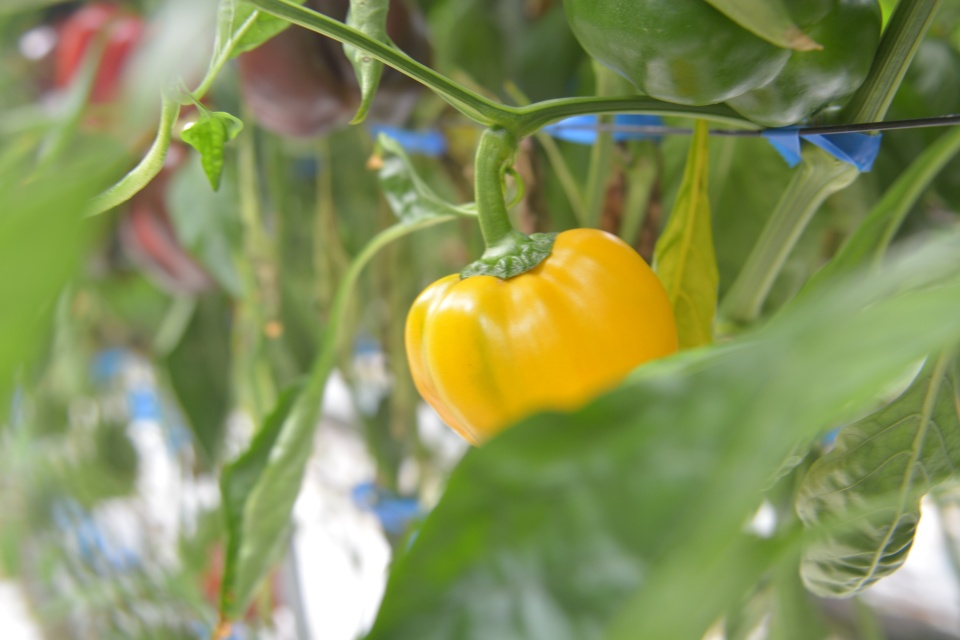fruit: (400, 223, 681, 447), (229, 0, 437, 144), (562, 0, 792, 107), (720, 0, 884, 129)
pedicle: (456, 229, 560, 282)
